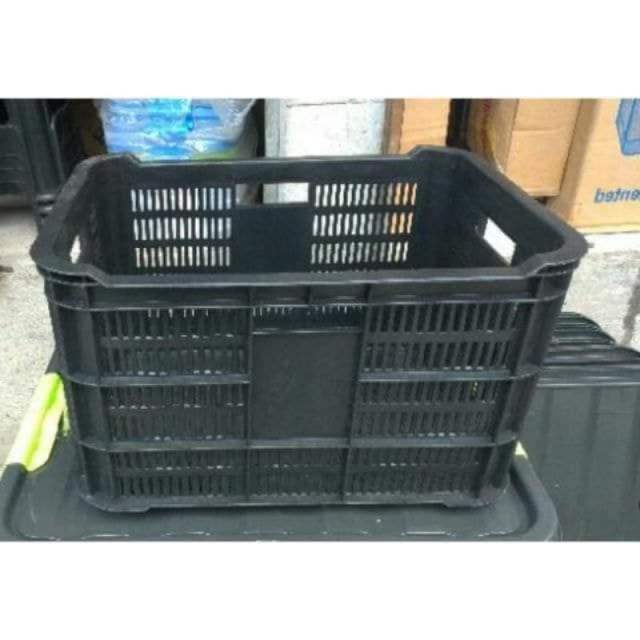plastic: (36, 142, 582, 517)
